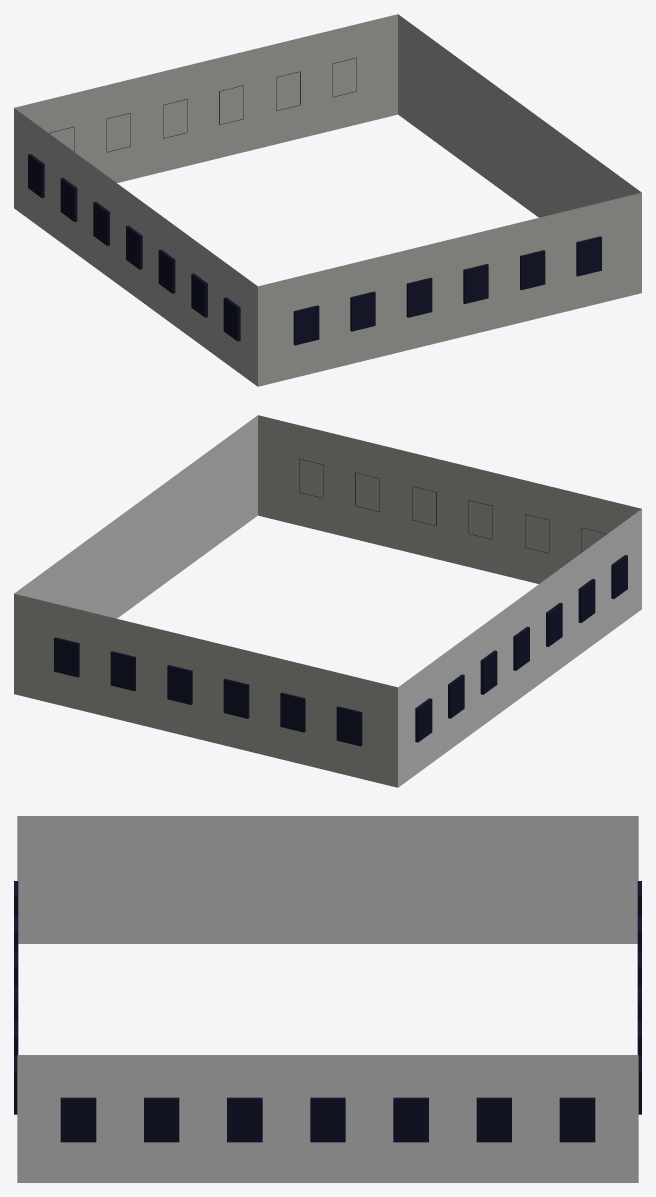
Rendered from TB_CITY_Skysc_S_UpperBodyA_Gray.FBX.
The picture shows the model from 3 angles, top to bottom: view 1: azimuth 30°, elevation 25°; view 2: azimuth 150°, elevation 25°; view 3: azimuth 270°, elevation 25°; orthographic projection. The views are drawn at different scales.
Visible parts, largest first — view 1: TB_CITY_Skysc_S_UpperBodyA_Gray; view 2: TB_CITY_Skysc_S_UpperBodyA_Gray; view 3: TB_CITY_Skysc_S_UpperBodyA_Gray.
Boxes of the visible parts, x1,y1,x2,y2 form: TB_CITY_Skysc_S_UpperBodyA_Gray: (14,14,641,386); TB_CITY_Skysc_S_UpperBodyA_Gray: (14,415,641,787); TB_CITY_Skysc_S_UpperBodyA_Gray: (14,816,641,1182).
Size of the model in its own units: 20.32 by 5 by 22.23.
